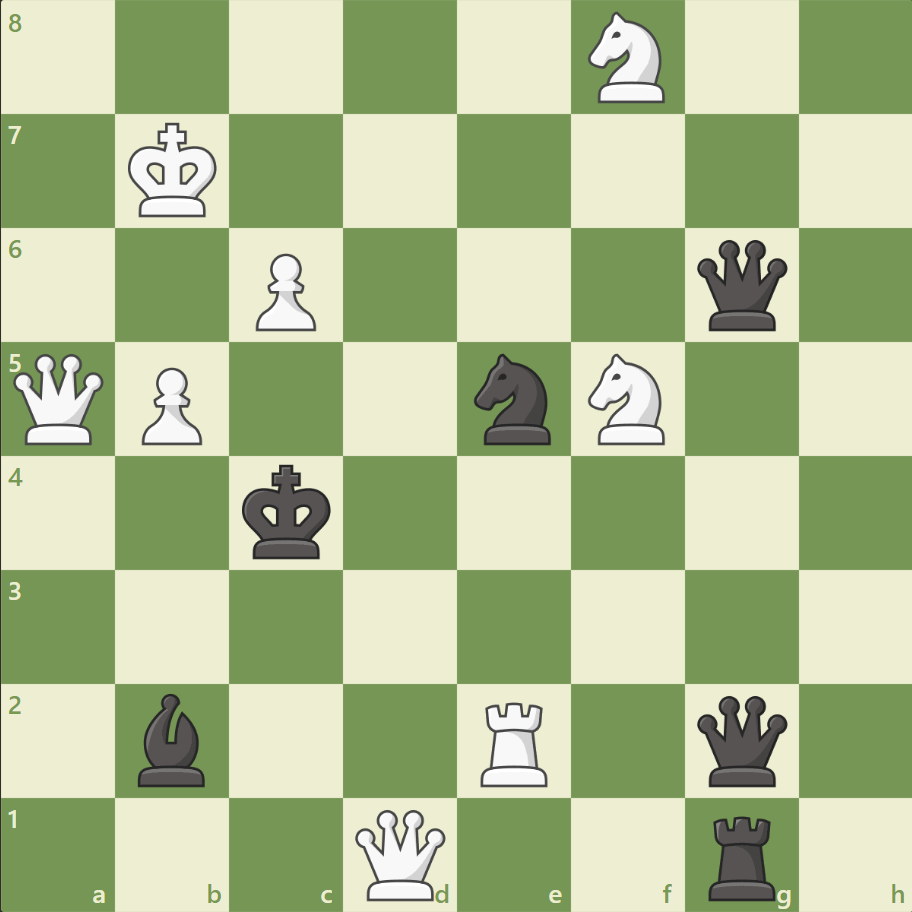K: (124, 117, 224, 225)
N: (579, 7, 676, 110), (579, 348, 676, 450)
P: (247, 246, 322, 337), (133, 359, 208, 450)
Q: (10, 349, 109, 449), (351, 804, 450, 903)
R: (473, 693, 556, 790)
b: (131, 687, 215, 790)
k: (238, 458, 338, 566)
n: (465, 348, 562, 450)
q: (691, 236, 790, 335), (691, 690, 790, 789)
r: (700, 806, 783, 904)
